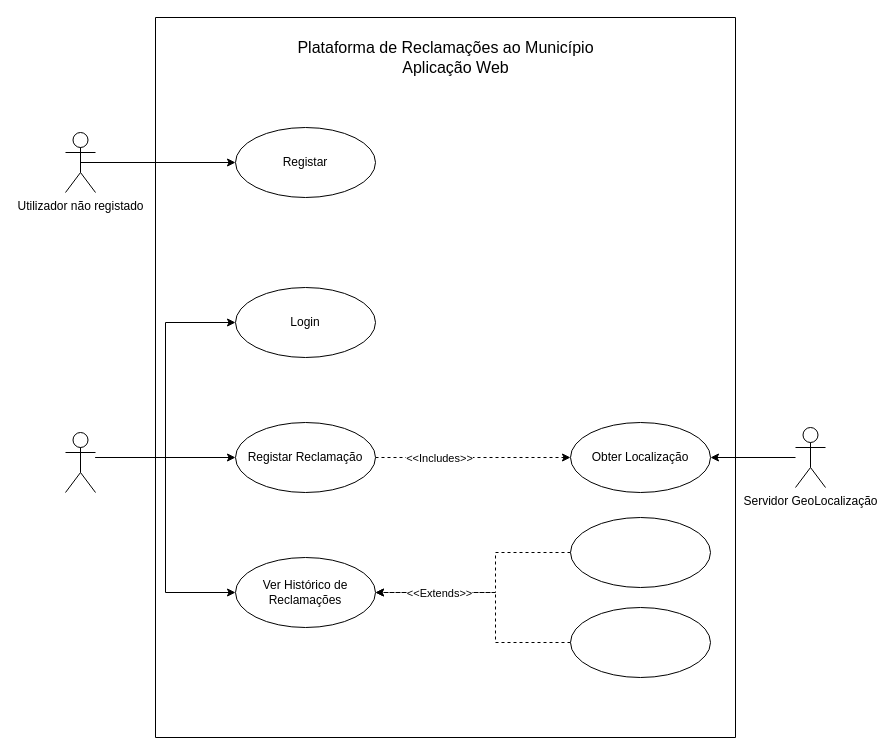
This 894x755 diagram has some shape labels left out. The box of each missing label's shape, as (x1, y1, x2, y2) in pixels:
Cancelar Reclamação Pendente: (570, 516, 710, 588)
Editar Reclamação Pendente: (570, 606, 710, 678)
Utilizador: (64, 432, 96, 492)
